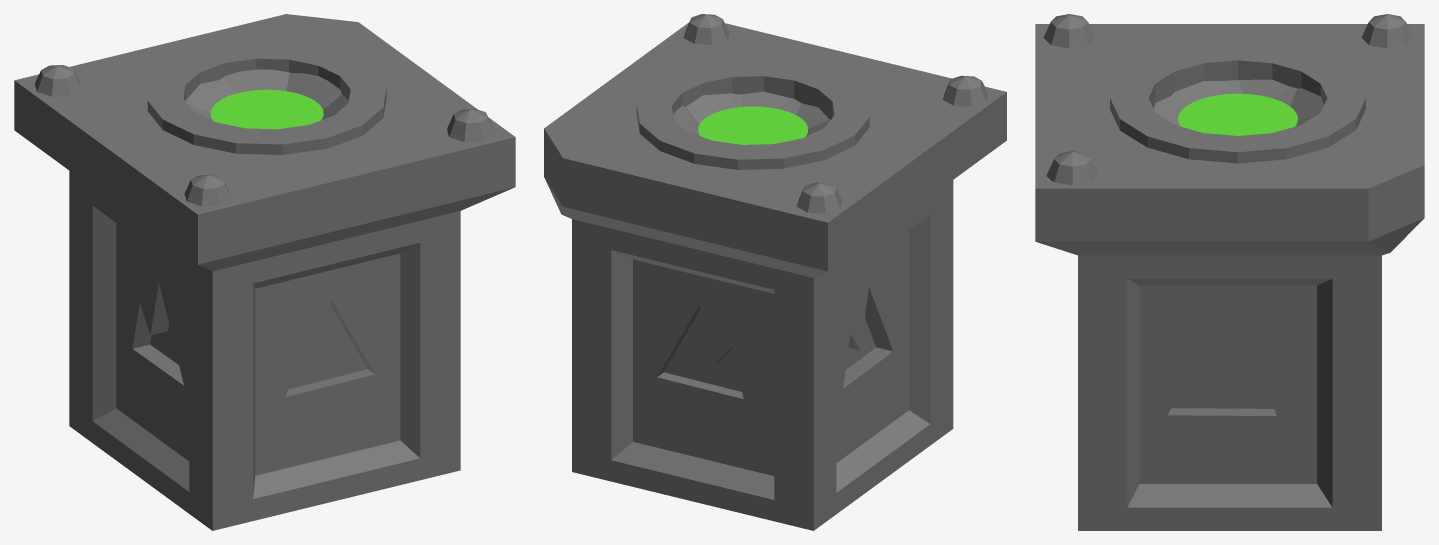
File: MapCraftingTable.fbx
The picture shows the model from 3 angles, left to right: view 1: azimuth 30°, elevation 25°; view 2: azimuth 150°, elevation 25°; view 3: azimuth 270°, elevation 25°; orthographic projection. The views are drawn at different scales.
Parts seen in each view (by area): view 1: Table; view 2: Table; view 3: Table.
Part boxes in pixels (x1=…): Table: x1=14, y1=14, x2=515, y2=530; Table: x1=544, y1=14, x2=1006, y2=530; Table: x1=1035, y1=14, x2=1424, y2=530.
Bounding box in the file's own units: 187 × 203 × 187.
